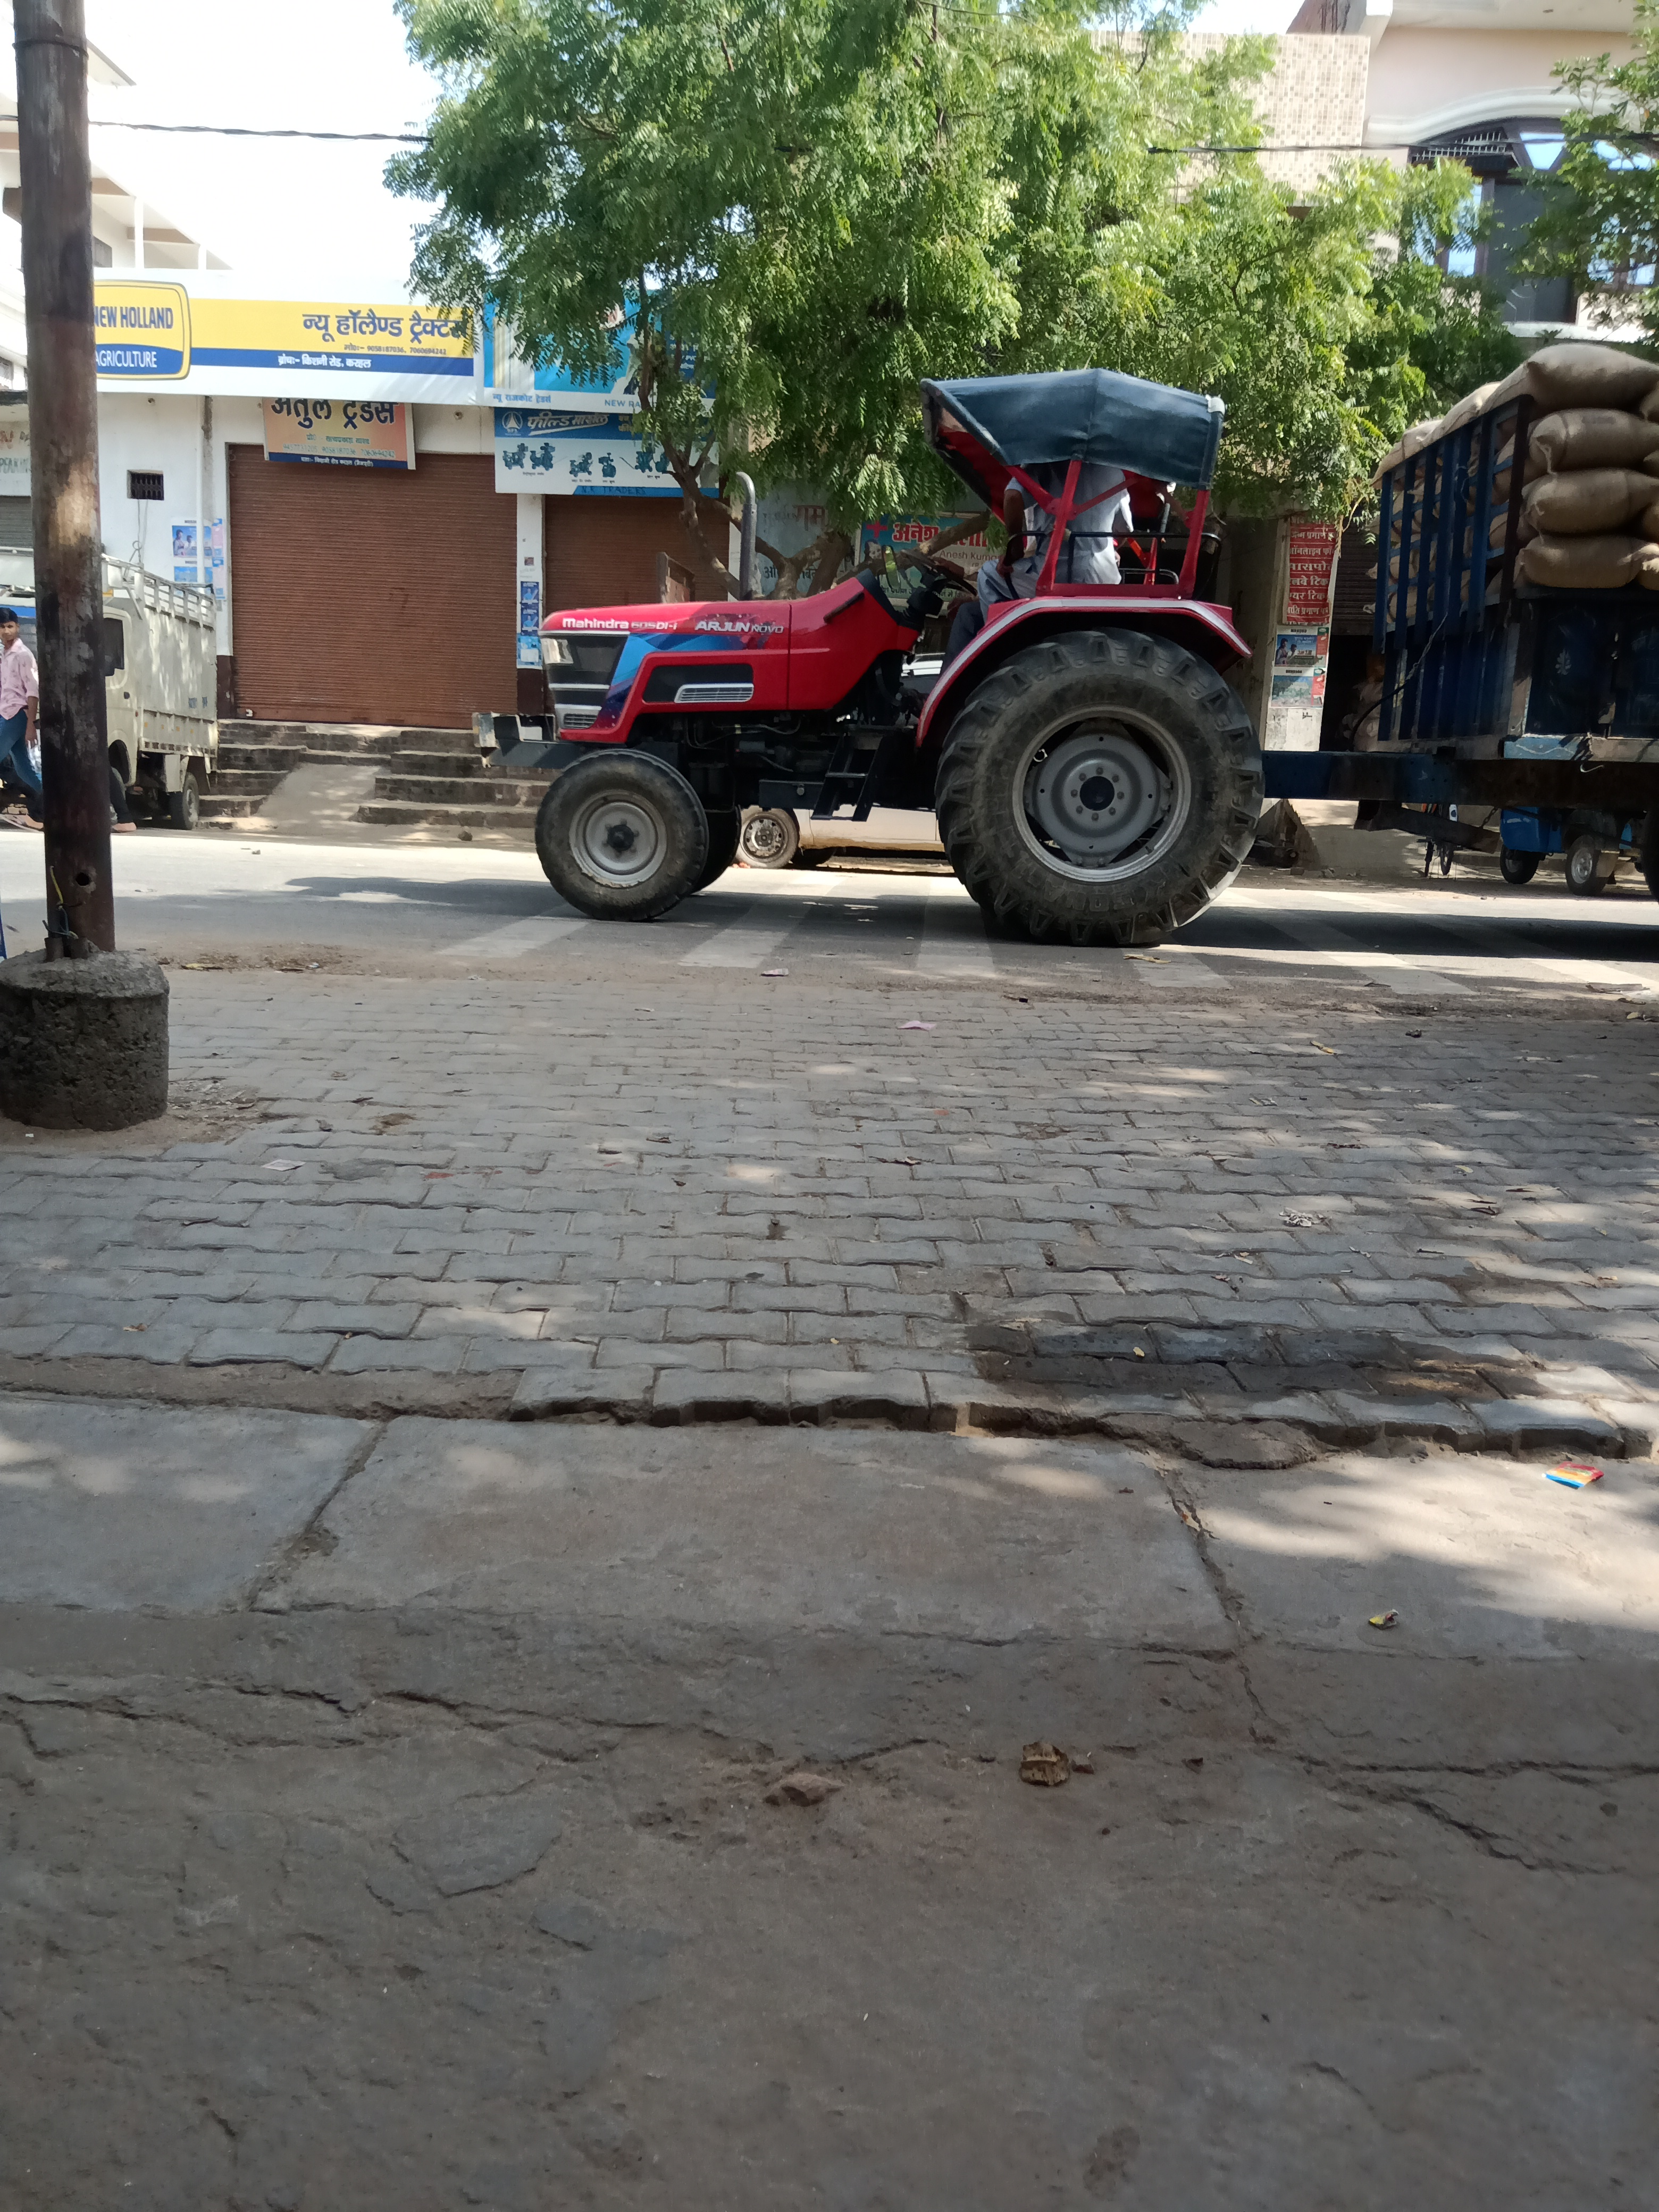tractor: (469, 366, 1659, 954)
